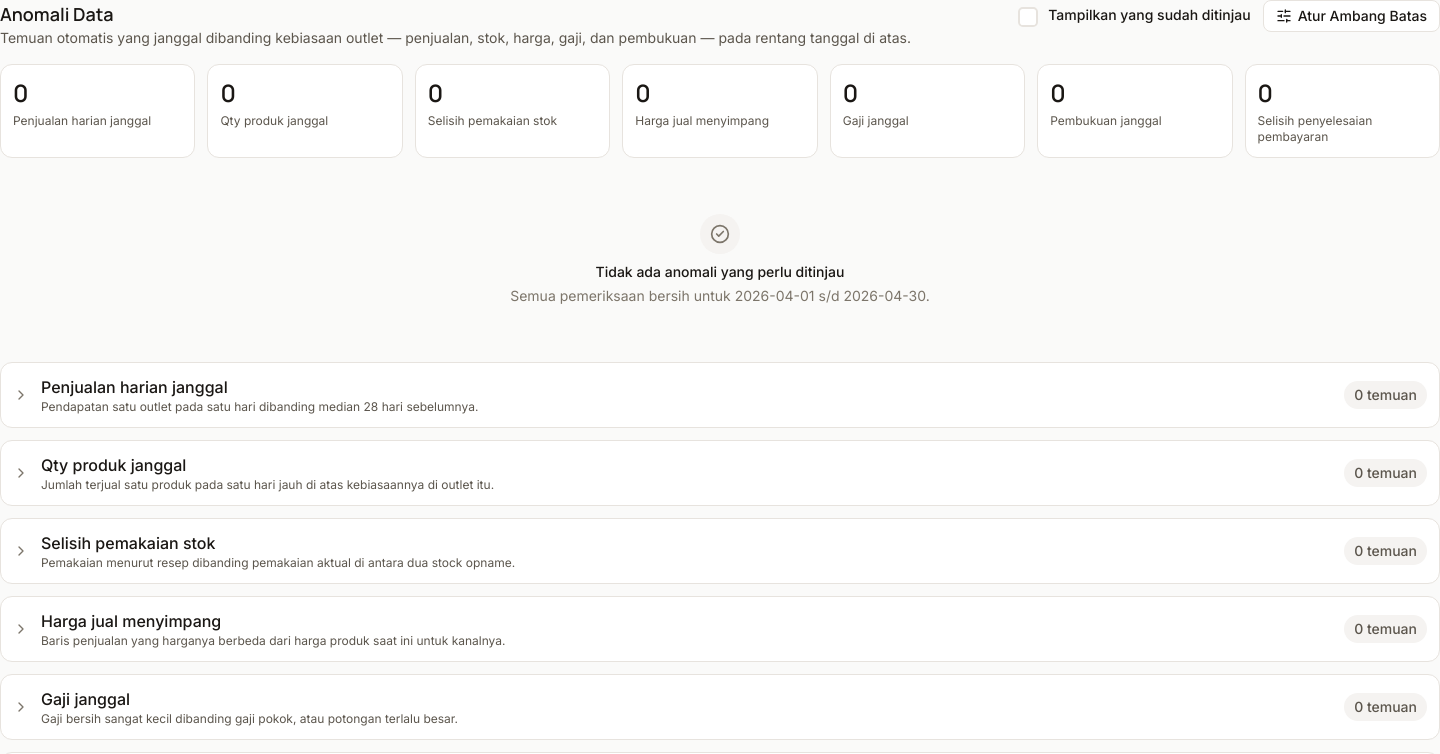
Scenario: AnomalyPanel › a refused save shows the error CODE sentence, not the server message
Step 1. Click the button "Atur Ambang Batas" → (1351, 16), box [1263,0,1439,32]
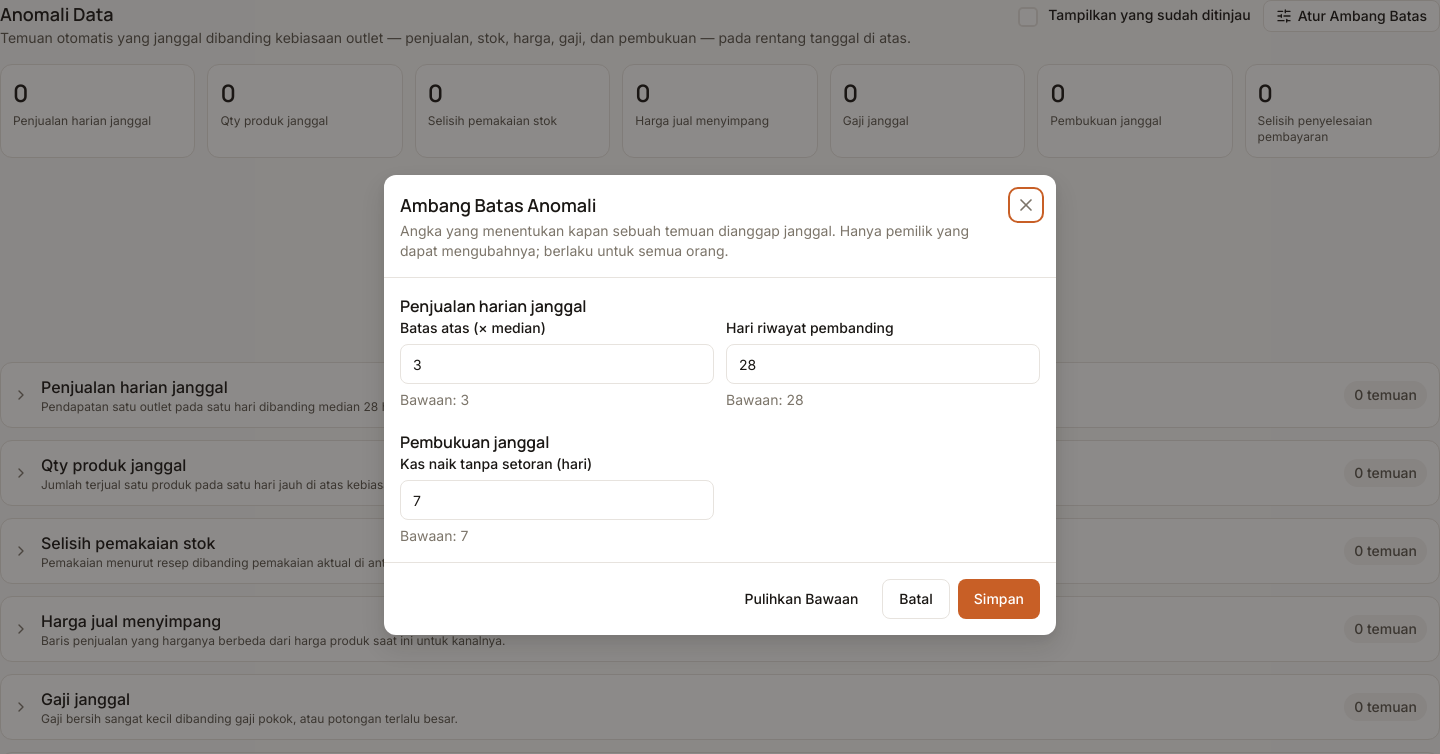
Expected: the number field labelled "Batas atas (× median)" is shown, [400,344,714,384]
Step 2. Click the button "Simpan" → (999, 599), box [958,579,1040,619]
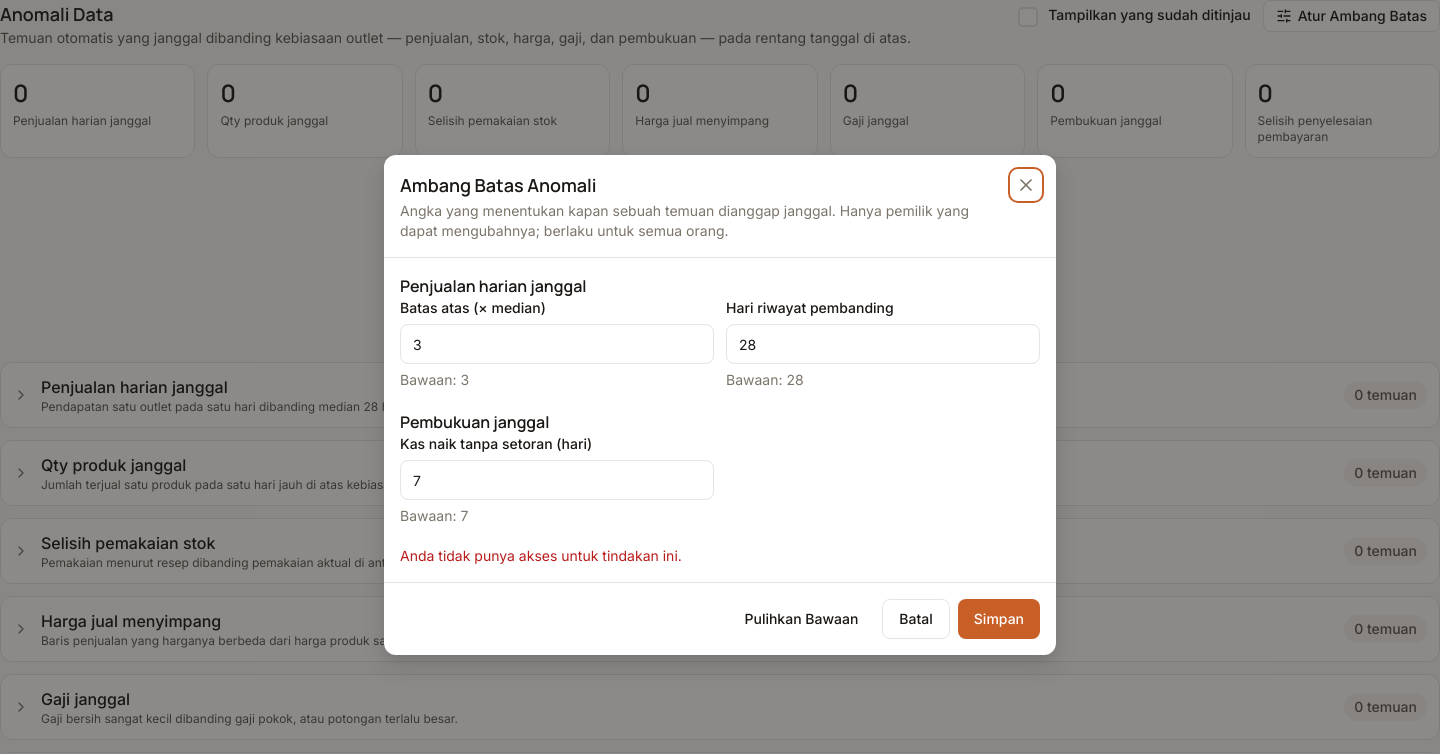
Expected: the message reads "Anda tidak punya akses untuk tindakan ini.", [400,547,682,564]
